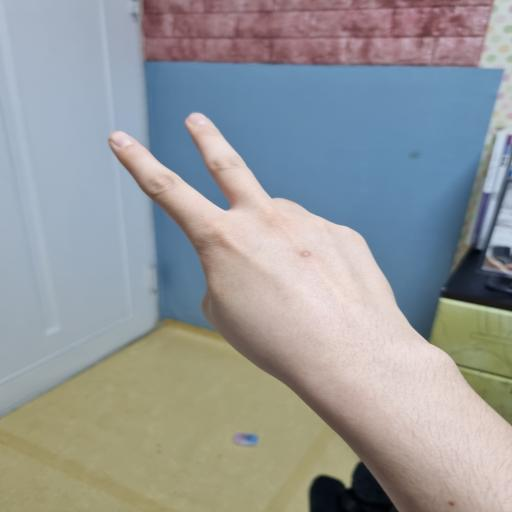Scissors: (108, 112, 435, 350)
